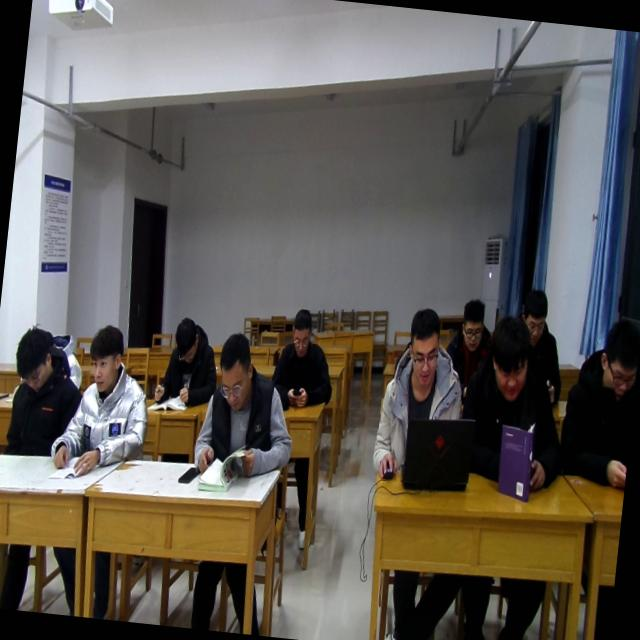down: (482, 306, 538, 404), (401, 303, 448, 391), (212, 328, 258, 415), (9, 316, 57, 396), (520, 283, 554, 344), (457, 294, 489, 354), (286, 301, 315, 364), (169, 314, 202, 369)
lookup: (81, 317, 128, 404)
sit: (452, 312, 574, 496), (369, 306, 472, 488), (189, 329, 301, 486), (49, 320, 154, 480), (557, 311, 640, 484), (0, 323, 81, 457), (268, 294, 344, 411), (152, 308, 226, 404), (445, 286, 501, 378), (512, 288, 570, 376)
